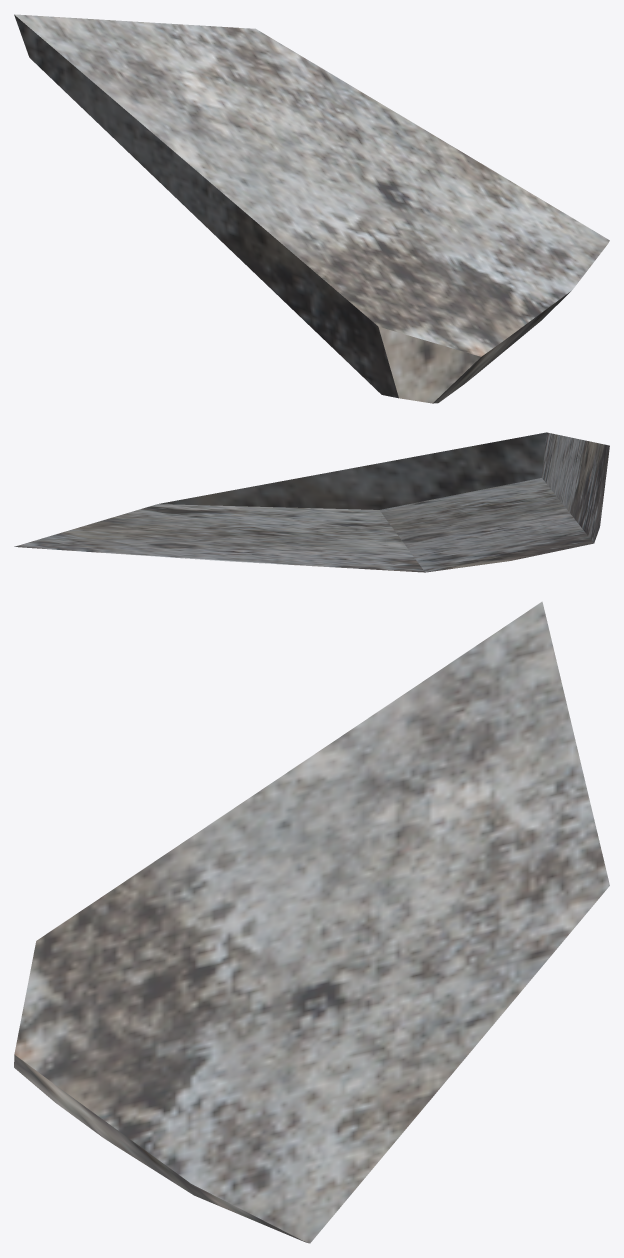
The model's file is Asteroid_Large_001_02_001_03_011.fbx.
3 views of the same model, one above another, from view 1: azimuth 30°, elevation 25°; view 2: azimuth 150°, elevation 25°; view 3: azimuth 270°, elevation 25° (orthographic). The views are drawn at different scales.
Parts seen in each view (by area): view 1: Asteroid_Large_001_02_001_03_011; view 2: Asteroid_Large_001_02_001_03_011; view 3: Asteroid_Large_001_02_001_03_011.
Boxes of the visible parts, bbox=[...] form: Asteroid_Large_001_02_001_03_011: bbox=[14, 14, 609, 403]; Asteroid_Large_001_02_001_03_011: bbox=[14, 432, 609, 572]; Asteroid_Large_001_02_001_03_011: bbox=[14, 601, 609, 1243].
Size of the model in its own units: 6.63 by 3.85 by 5.57.
